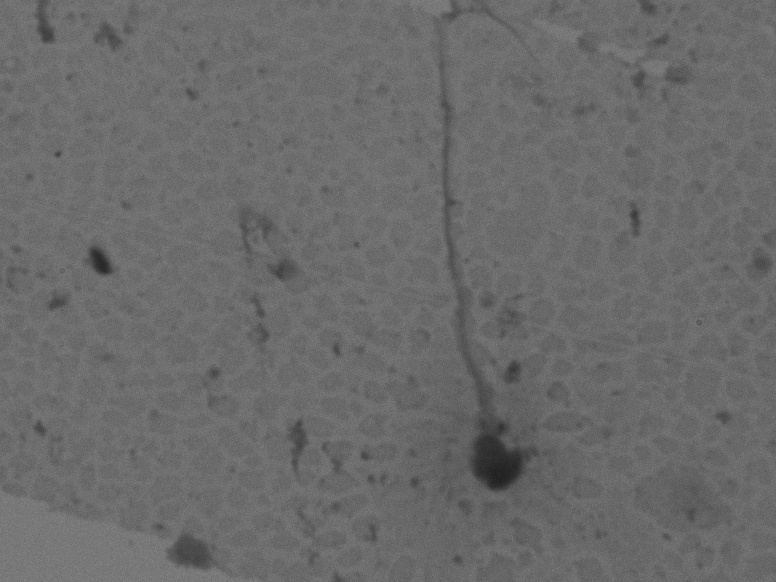Abnormal: (404, 14, 573, 503)
